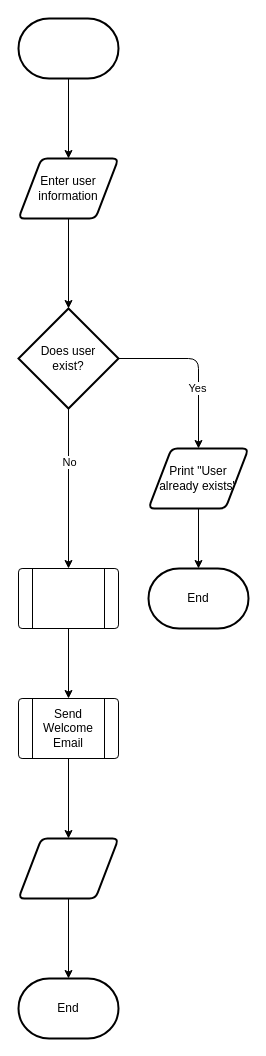
Some shapes in this 266 by 1056 pixel diagram are drawn without their labels. Each missing label, with the centre of its shape:
Print "Thank you for signing up": the point at 68,868
Save user information: the point at 68,598
Start: the point at 68,48
